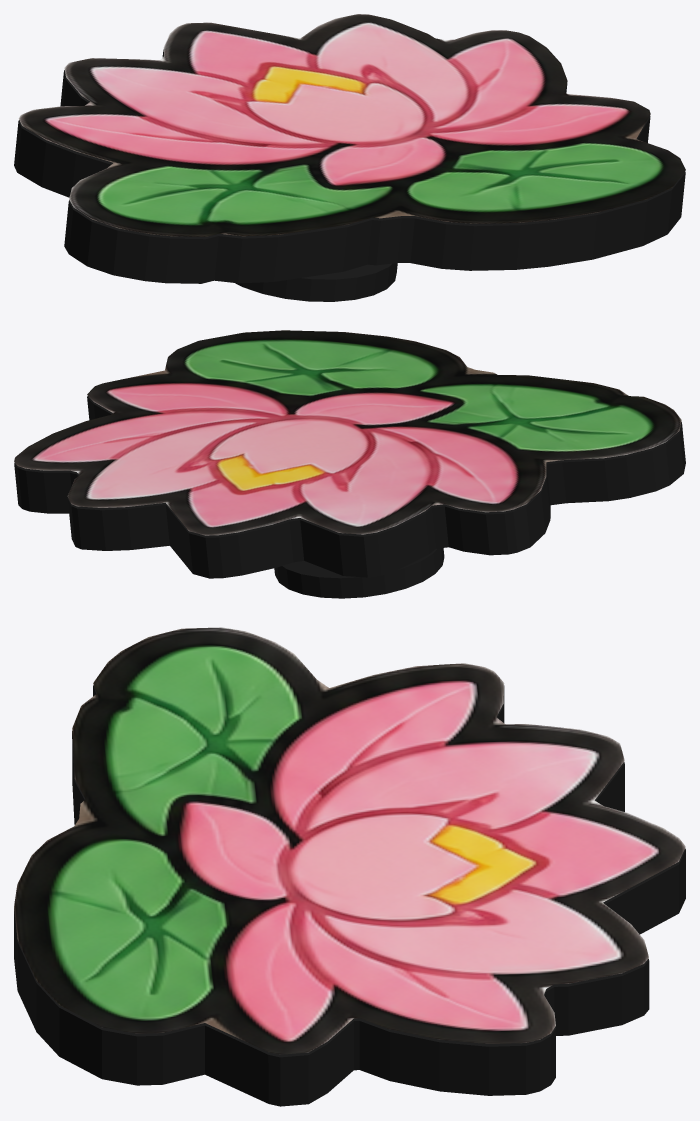
The model's file is vietnam-lotus.glb.
3 views of the same model, one above another, from view 1: azimuth 30°, elevation 25°; view 2: azimuth 150°, elevation 25°; view 3: azimuth 270°, elevation 25° (orthographic). The views are drawn at different scales.
Parts seen in each view (by area): view 1: VIETNAM_Lotus_MODEL; view 2: VIETNAM_Lotus_MODEL; view 3: VIETNAM_Lotus_MODEL.
Boxes of the visible parts, x1,y1,x2,y2 form: VIETNAM_Lotus_MODEL: (14,14,685,301); VIETNAM_Lotus_MODEL: (14,330,685,598); VIETNAM_Lotus_MODEL: (14,627,685,1106).
Bounding box in the file's own units: 0.3685 × 0.1019 × 0.2986.
Materials: 3 (1 with a texture image).
